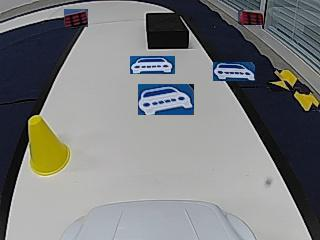block: (146, 12, 189, 48)
cone: (27, 116, 71, 175)
